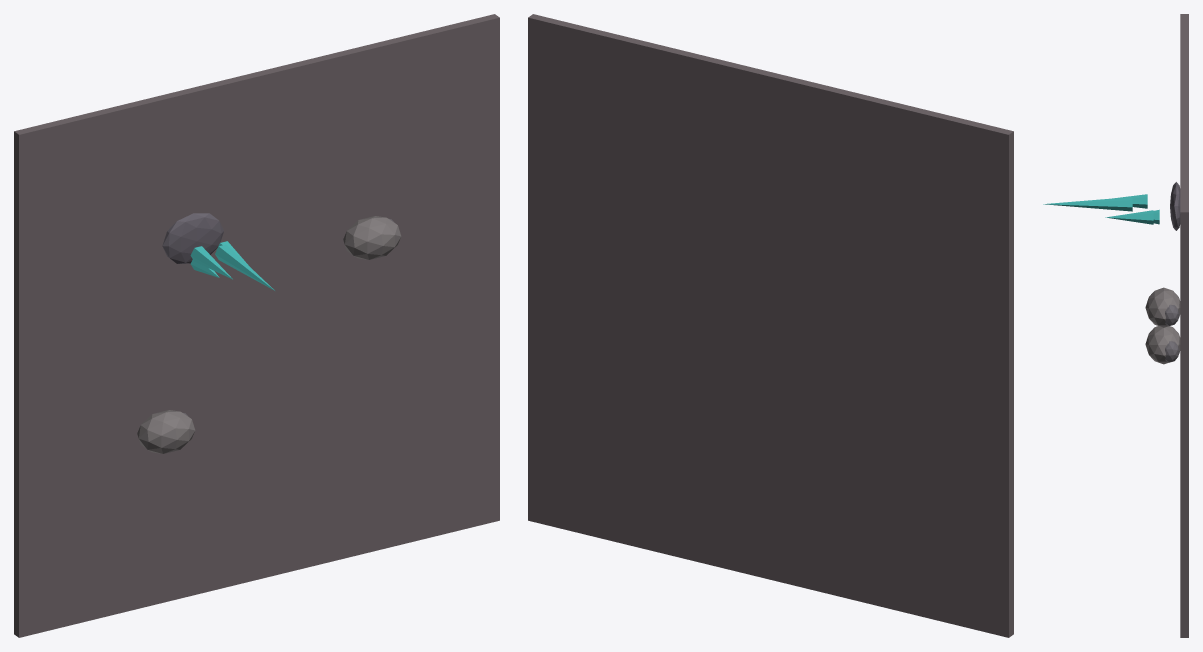
File: VP_STAGE_01.glb
3 views of the same model, side by side, from view 1: azimuth 30°, elevation 25°; view 2: azimuth 150°, elevation 25°; view 3: azimuth 270°, elevation 25° (orthographic). The views are drawn at different scales.
Visible parts, largest first — view 1: world; view 2: world; view 3: world.
Part boxes in pixels (x1,y1,x2,y2): world: (14,14,499,637); world: (528,14,1013,637); world: (1043,14,1188,637).
Bounding box in the file's own units: 14 × 14 × 4.38.
